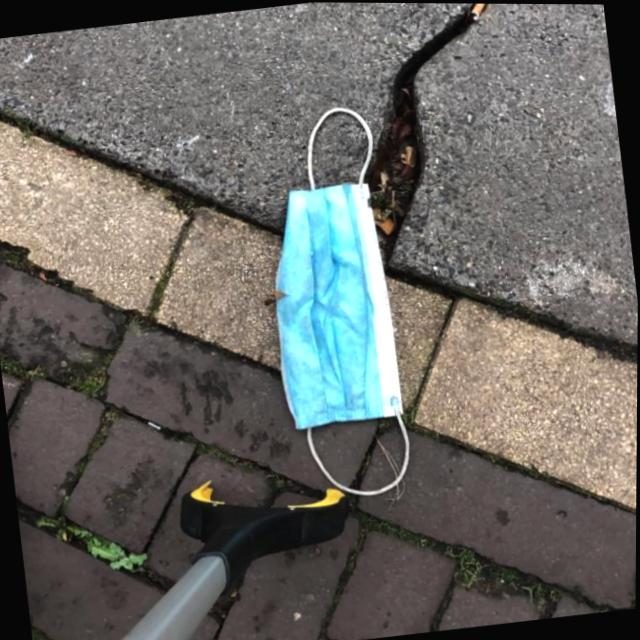Mask: (245, 98, 419, 505)
